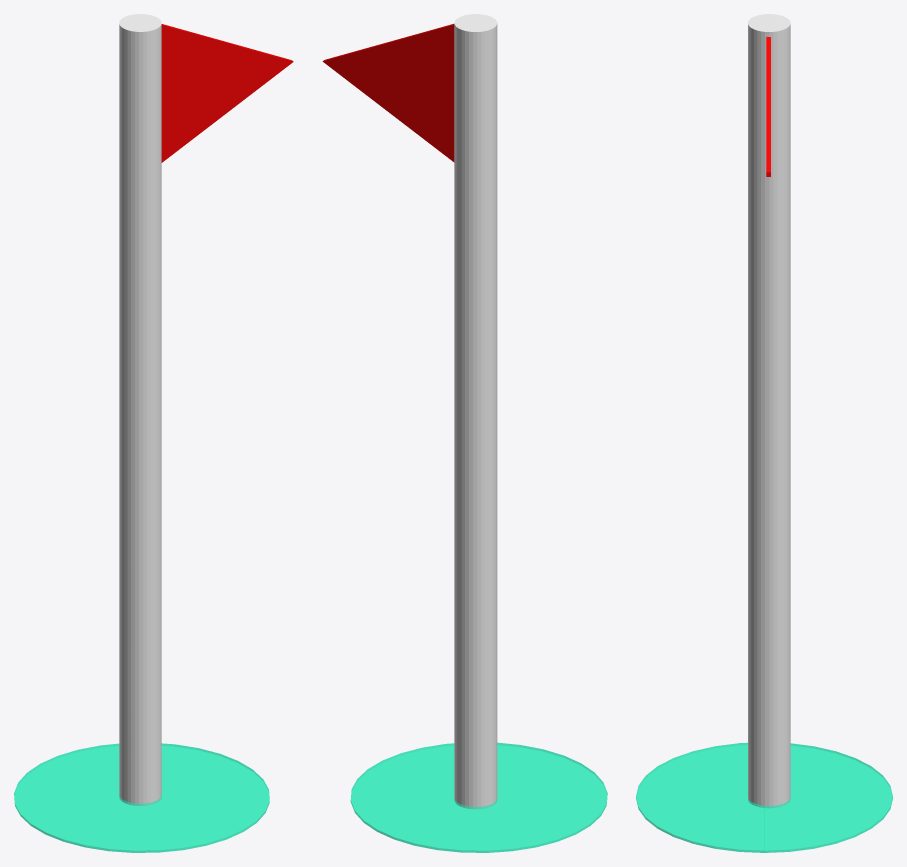
File: flag.dae
3 views of the same model, side by side, from view 1: azimuth 30°, elevation 25°; view 2: azimuth 150°, elevation 25°; view 3: azimuth 270°, elevation 25° (orthographic).
Visible parts, largest first — view 1: Cylinder, Cylinder_001, flag; view 2: Cylinder, Cylinder_001, flag; view 3: Cylinder, Cylinder_001, flag.
Part boxes in pixels (x1,y1,x2,y2): Cylinder: [119, 14, 161, 805]; Cylinder_001: [14, 743, 269, 852]; flag: [161, 24, 293, 162]; Cylinder: [454, 14, 497, 809]; Cylinder_001: [350, 742, 607, 852]; flag: [322, 24, 454, 162]; Cylinder: [748, 14, 790, 808]; Cylinder_001: [636, 742, 892, 852]; flag: [766, 37, 770, 176].
Bounding box in the file's own units: 0.7132 × 0.6 × 2.
